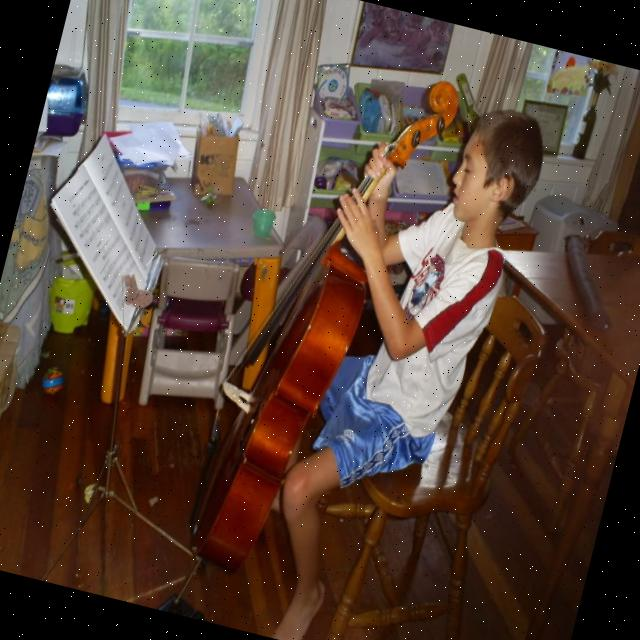cello: (178, 44, 464, 598)
